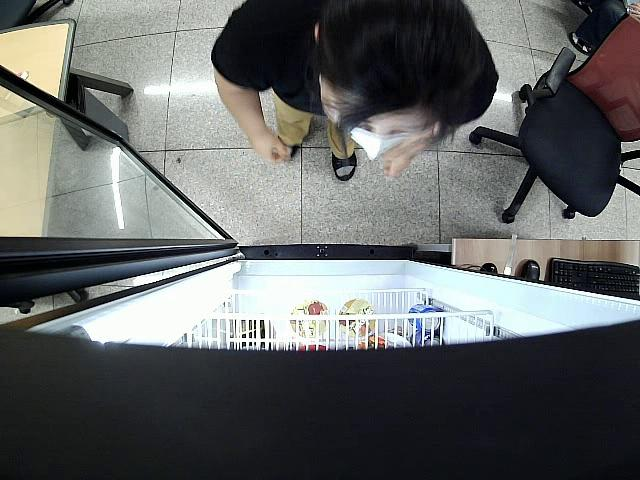00_hand: (249, 130, 288, 163)
